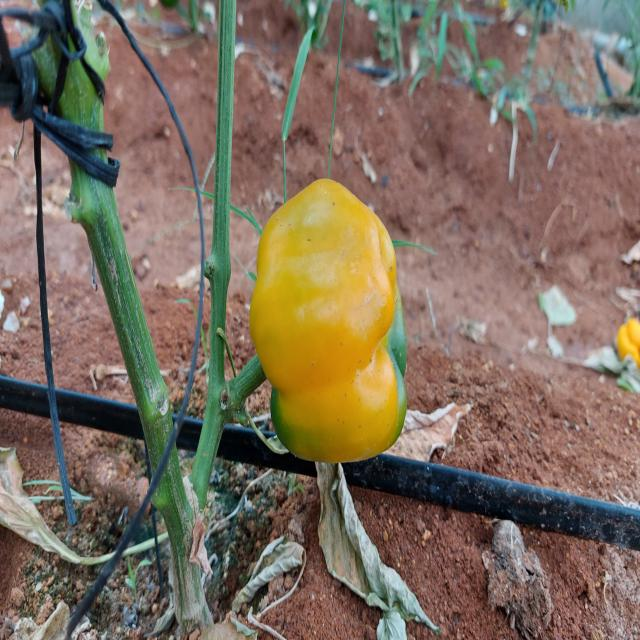Yellow-Ready-to-Harvest: (250, 171, 410, 465)
